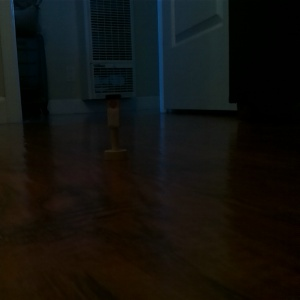traffic light red: (101, 91, 128, 162)
